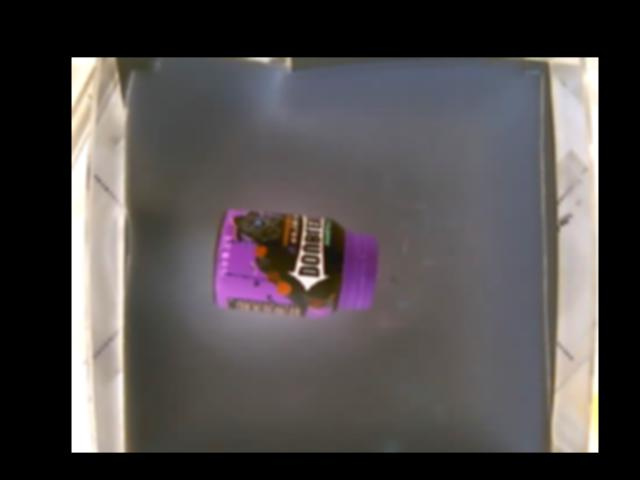Bottle: (211, 208, 378, 317)
